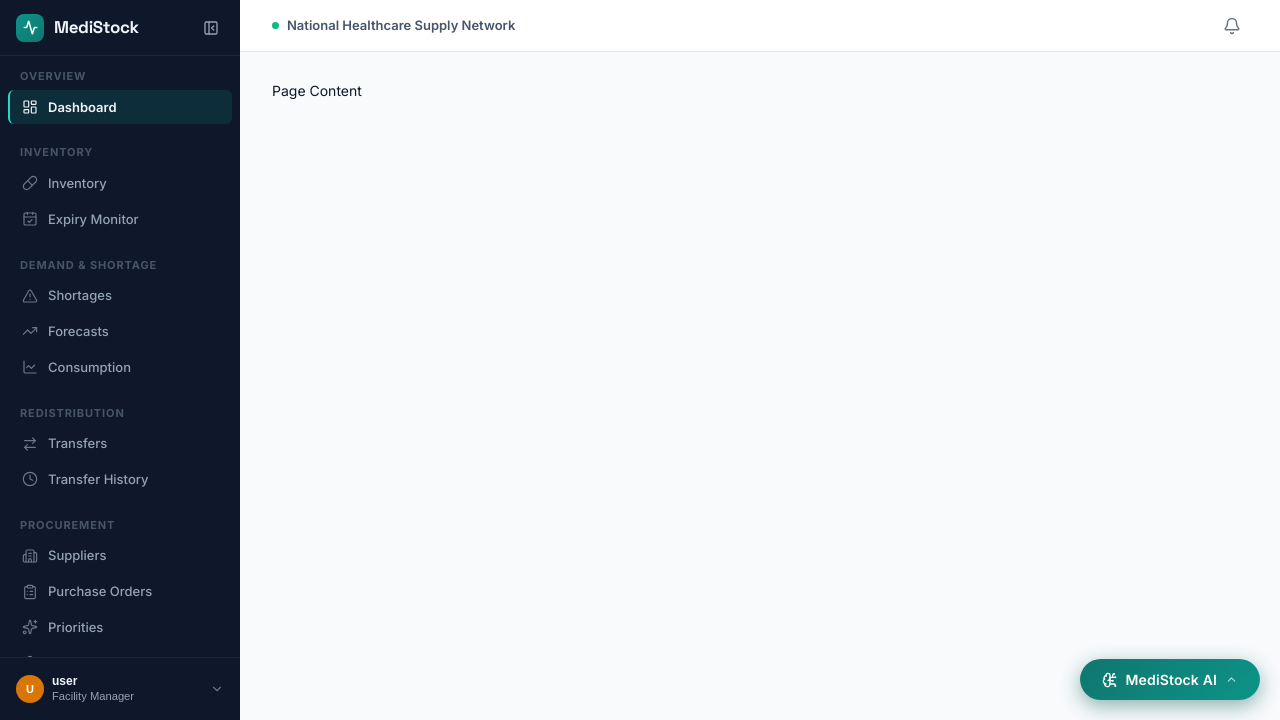
Test case: DashboardLayout Global Navigation Sidebar › displays multiple facilities as separate readable entries without concatenation
The image size is (1280, 720).
What coordinates should you click on to do the following:
click the button named "User menu"
I would click on:
 (120, 689)
Its box is [8,670,232,708].
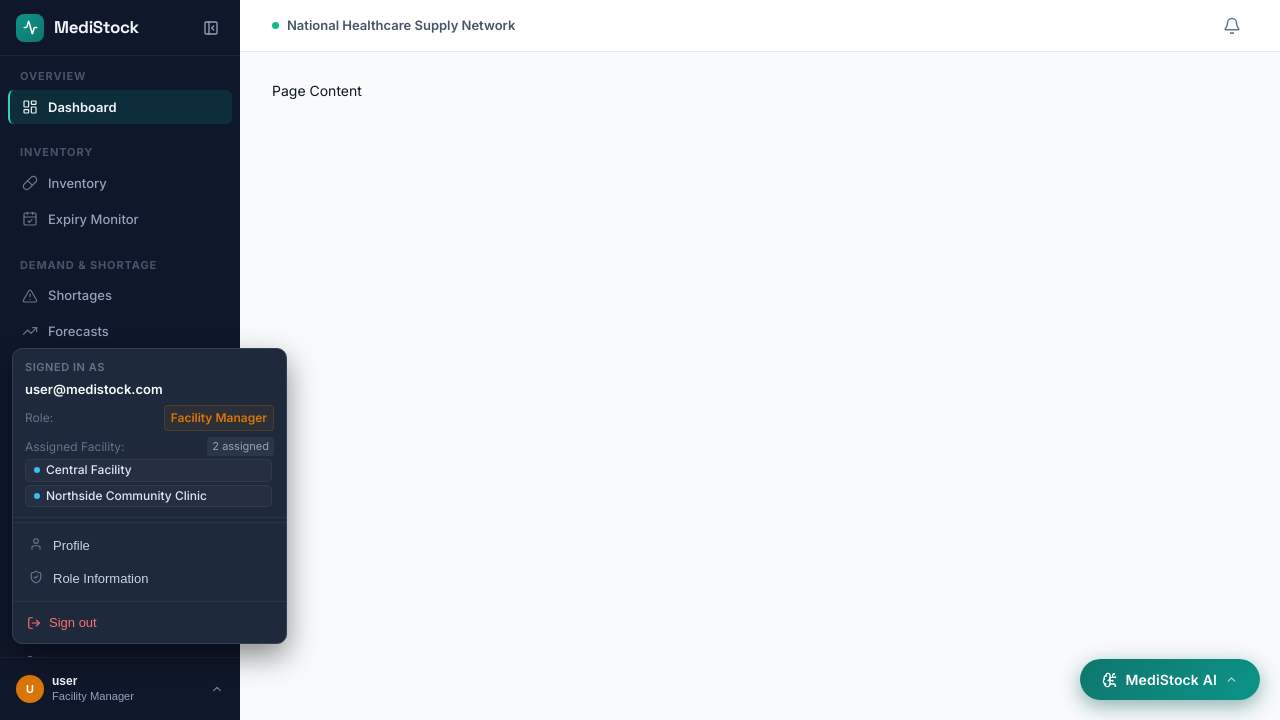
Expected: the menu is shown, [12,348,287,644]
Expected: the text "user@medistock.com" is shown, [25,381,163,397]
Expected: the text "2 assigned" is shown, [207,437,274,456]
